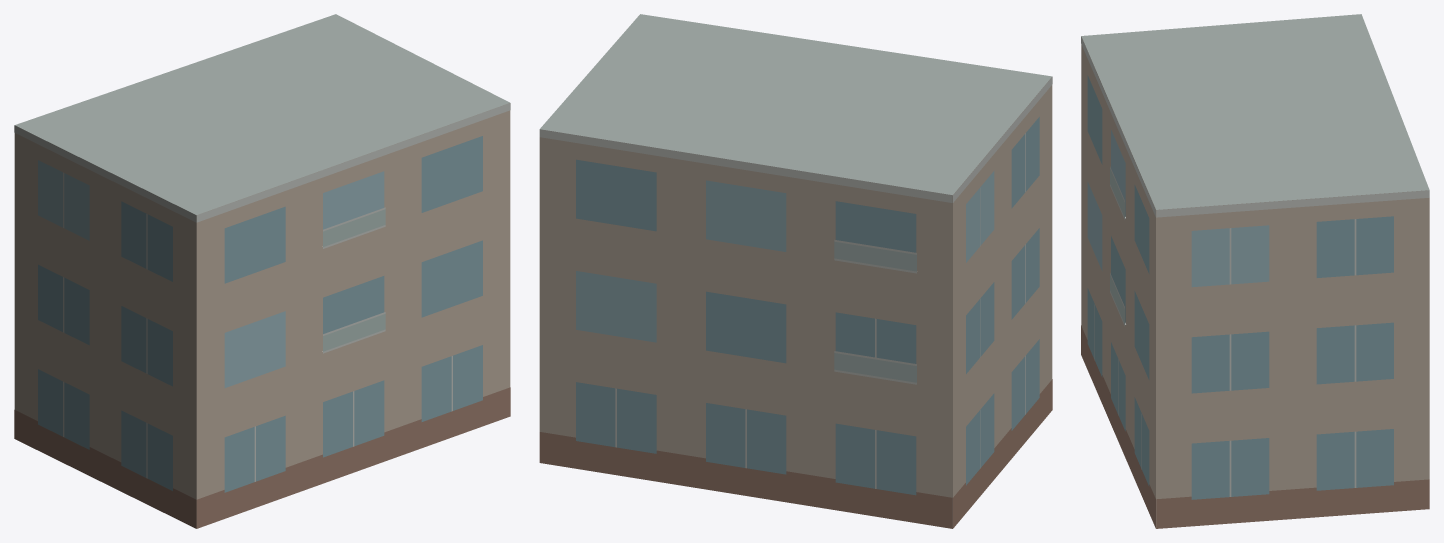
The model's file is survey-upis-32836392.glb.
The picture shows the model from 3 angles, left to right: view 1: azimuth 30°, elevation 25°; view 2: azimuth 150°, elevation 25°; view 3: azimuth 270°, elevation 25°; orthographic projection. The views are drawn at different scales.
Visible parts, largest first — view 1: survey-upis-32836392.tmp; view 2: survey-upis-32836392.tmp; view 3: survey-upis-32836392.tmp.
Boxes of the visible parts, <box> form: survey-upis-32836392.tmp: <box>14,14,510,528</box>; survey-upis-32836392.tmp: <box>539,14,1052,528</box>; survey-upis-32836392.tmp: <box>1081,14,1429,528</box>.
Size of the model in its own units: 13.45 by 10.2 by 10.11.
